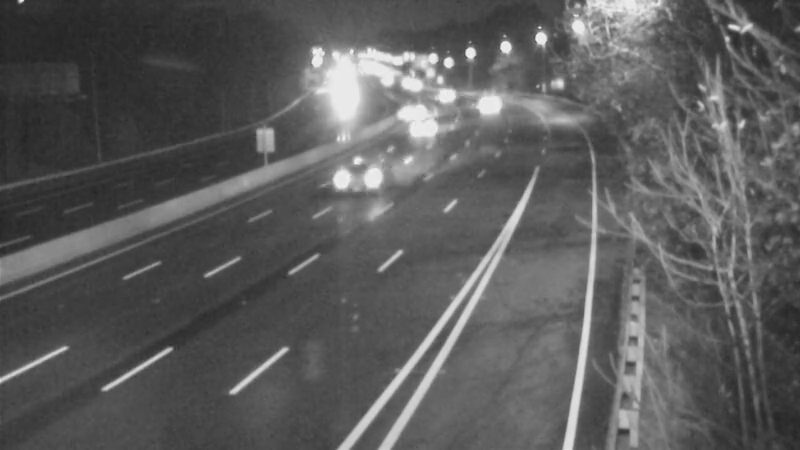vehicle: (332, 128, 412, 208), (421, 73, 471, 123), (459, 76, 509, 126), (378, 88, 428, 138), (390, 103, 440, 153)
